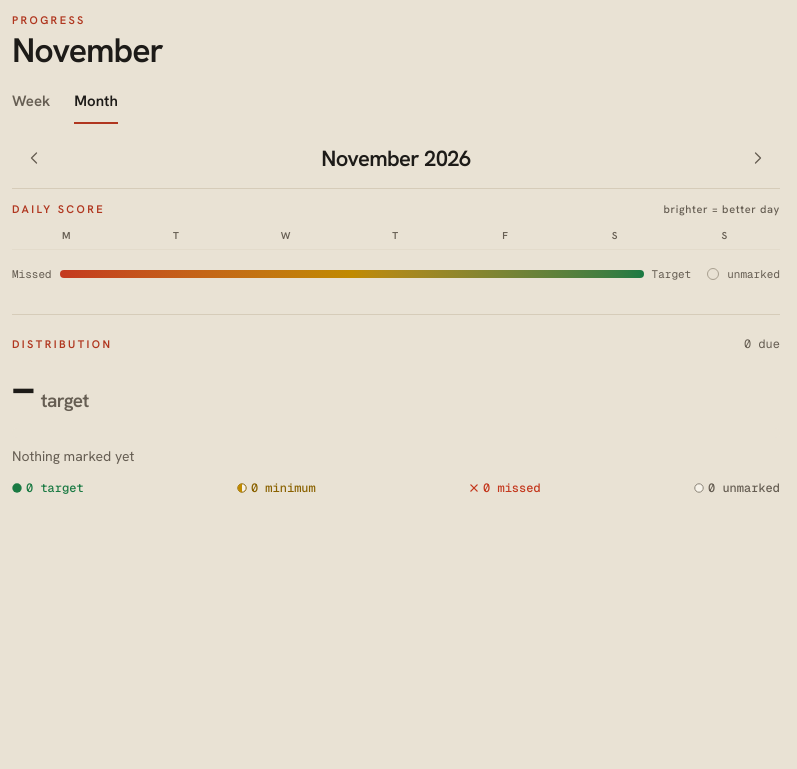
Test: ProgressPage › focuses the toggle once per switch, not on later navigation
The width and height of the screenshot is (797, 769).
Check: the heading "November 2026" is shown, box [321, 144, 471, 173]
Click the button "Week": (31, 102) [12, 80, 50, 124]
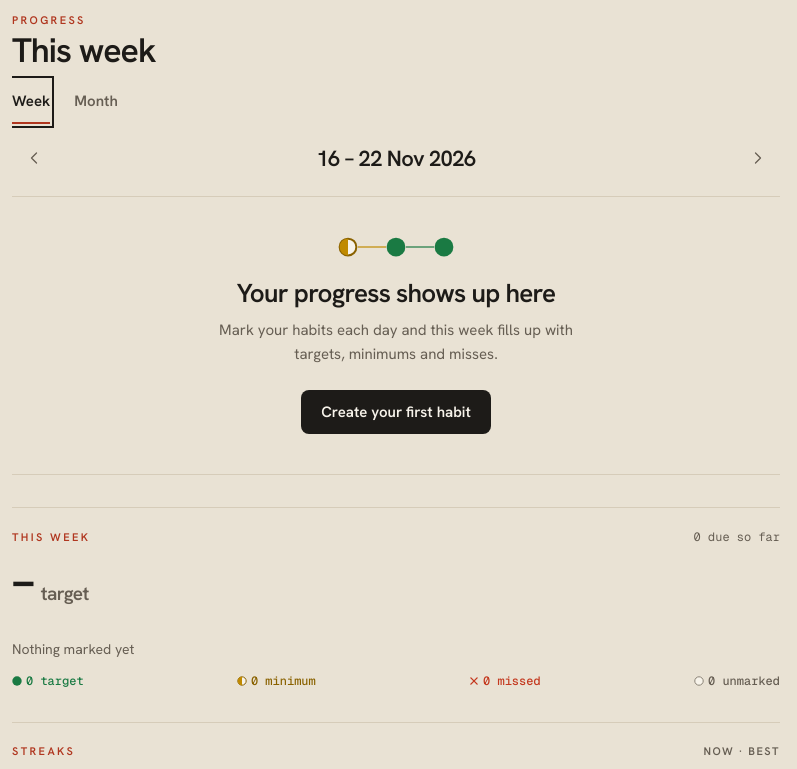
Check: the heading "16 – 22 Nov 2026" is shown, box [316, 144, 476, 173]
Click the button named "Next week": (758, 158) [736, 136, 780, 180]
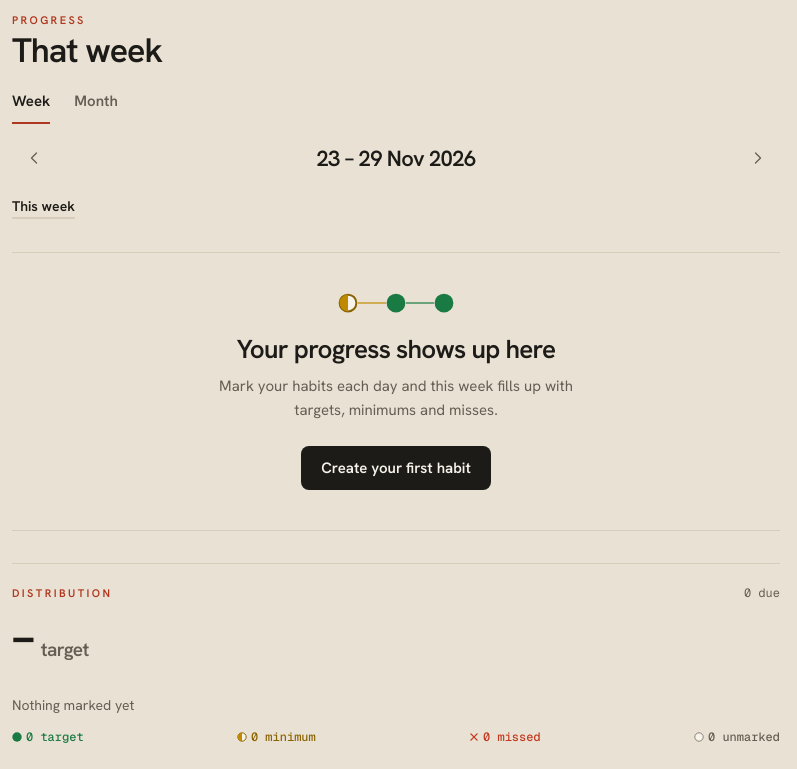
Check: the heading "23 – 29 Nov 2026" is shown, box [316, 144, 476, 173]
